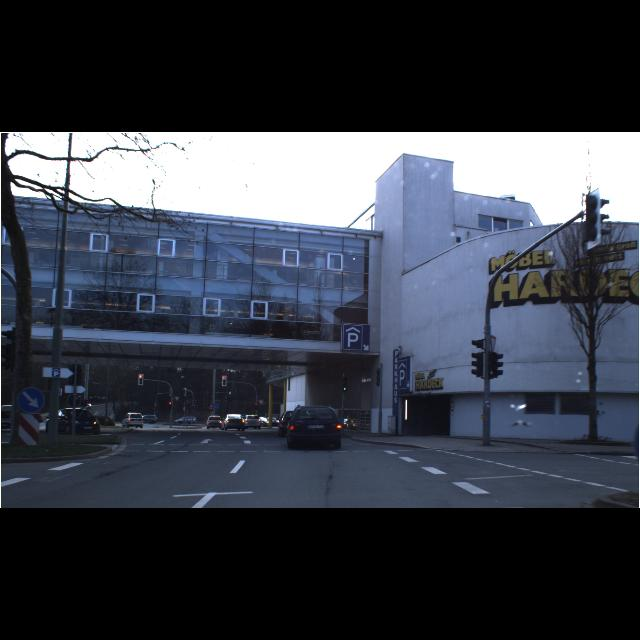mandatory: (17, 387, 45, 413)
